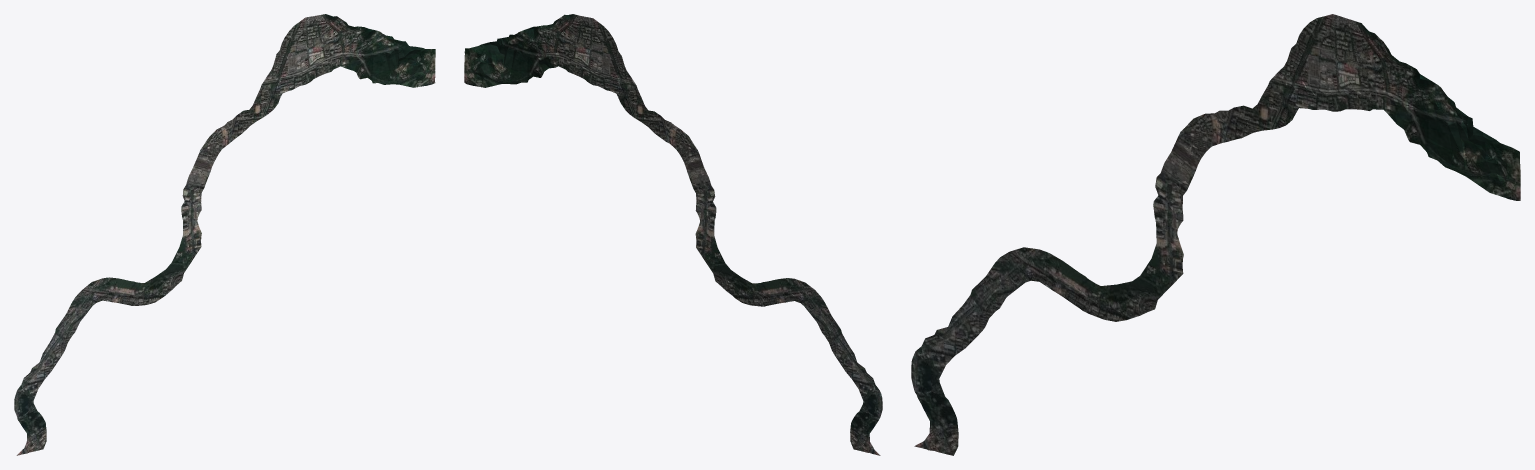
3 renders of one model, left to right at view 1: azimuth 30°, elevation 25°; view 2: azimuth 150°, elevation 25°; view 3: azimuth 330°, elevation 25°, orthographic. The views are drawn at different scales.
Visible parts, largest first — view 1: 0_0; view 2: 0_0; view 3: 0_0.
Boxes of the visible parts, <box> form: 0_0: <box>14,14,435,455</box>; 0_0: <box>464,14,882,455</box>; 0_0: <box>911,14,1520,455</box>.
Size of the model in its own units: 6584 by 5515 by 130.
Materials: 1 (1 with a texture image).
